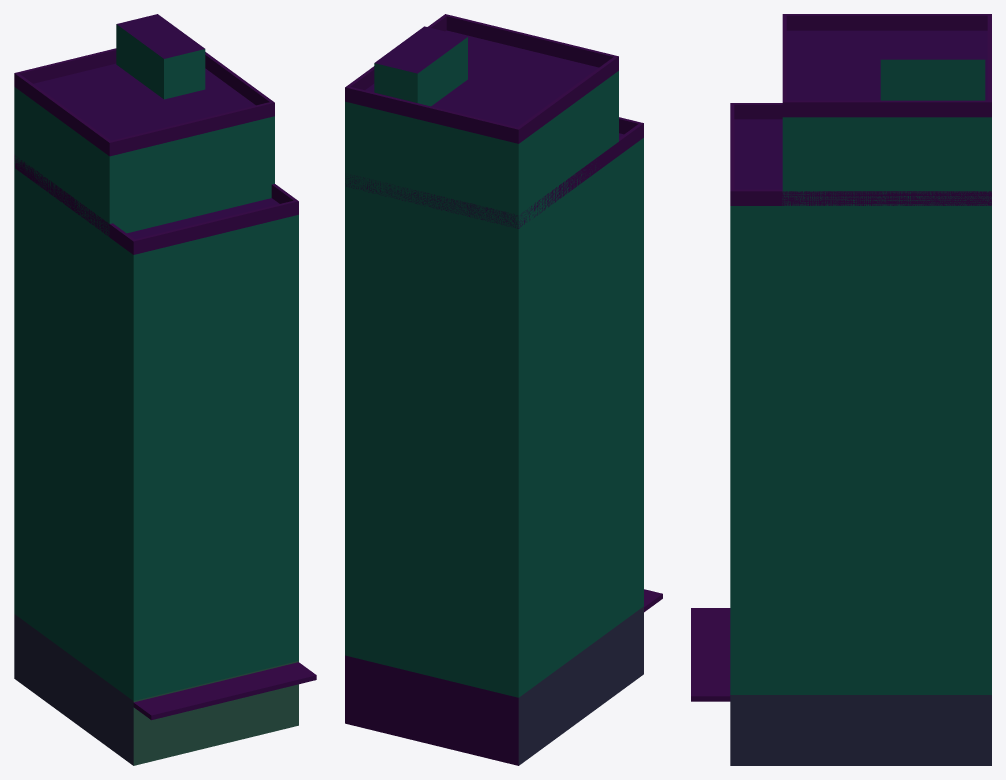
Rendered from slab_c.lod2.glb.
The picture shows the model from 3 angles, left to right: view 1: azimuth 30°, elevation 25°; view 2: azimuth 150°, elevation 25°; view 3: azimuth 270°, elevation 25°; orthographic projection. The views are drawn at different scales.
Parts seen in each view (by area): view 1: slab_c.lod2; view 2: slab_c.lod2; view 3: slab_c.lod2.
Part boxes in pixels (<box>): slab_c.lod2: <box>14,14,316,765</box>; slab_c.lod2: <box>345,14,662,765</box>; slab_c.lod2: <box>691,14,991,765</box>.
Size of the model in its own units: 12.8 by 46.8 by 18.4.
